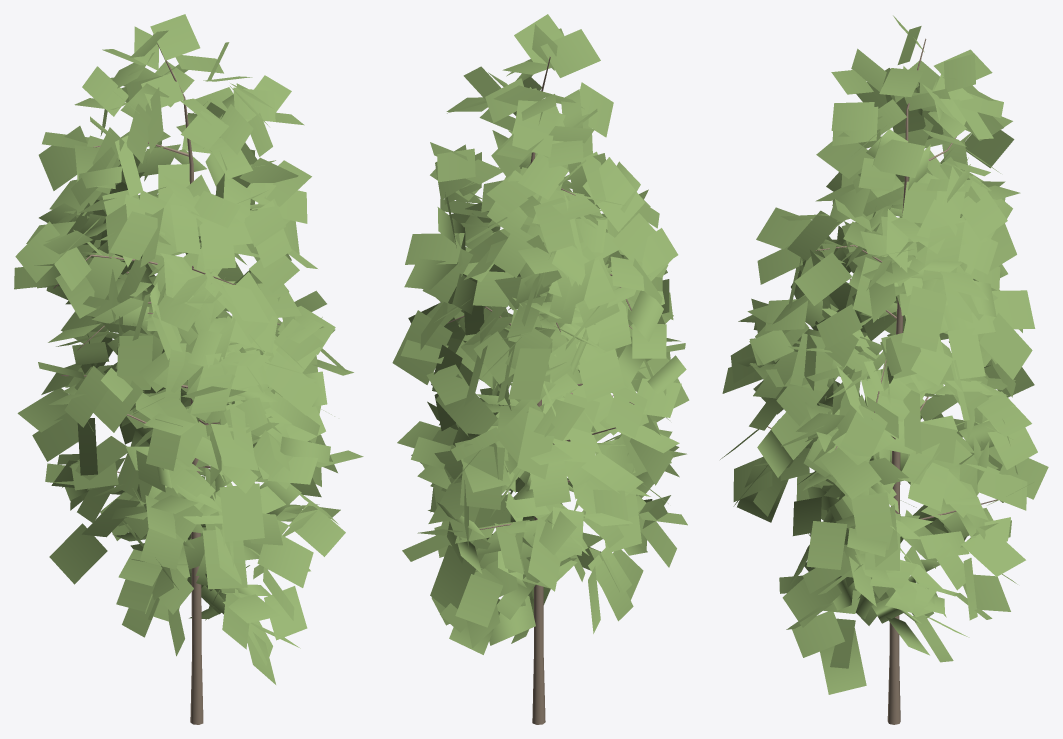
Rendered from Birch_11_young_lod1.glb.
3 renders of one model, left to right at view 1: azimuth 30°, elevation 25°; view 2: azimuth 150°, elevation 25°; view 3: azimuth 270°, elevation 25°, orthographic. The views are drawn at different scales.
Visible parts, largest first — view 1: Birch_11_young_lod1; view 2: Birch_11_young_lod1; view 3: Birch_11_young_lod1.
Boxes of the visible parts, x1,y1,x2,y2 form: Birch_11_young_lod1: [14, 14, 363, 724]; Birch_11_young_lod1: [392, 14, 689, 724]; Birch_11_young_lod1: [720, 15, 1048, 724].
Size of the model in its own units: 4.16 by 9.32 by 4.04.
